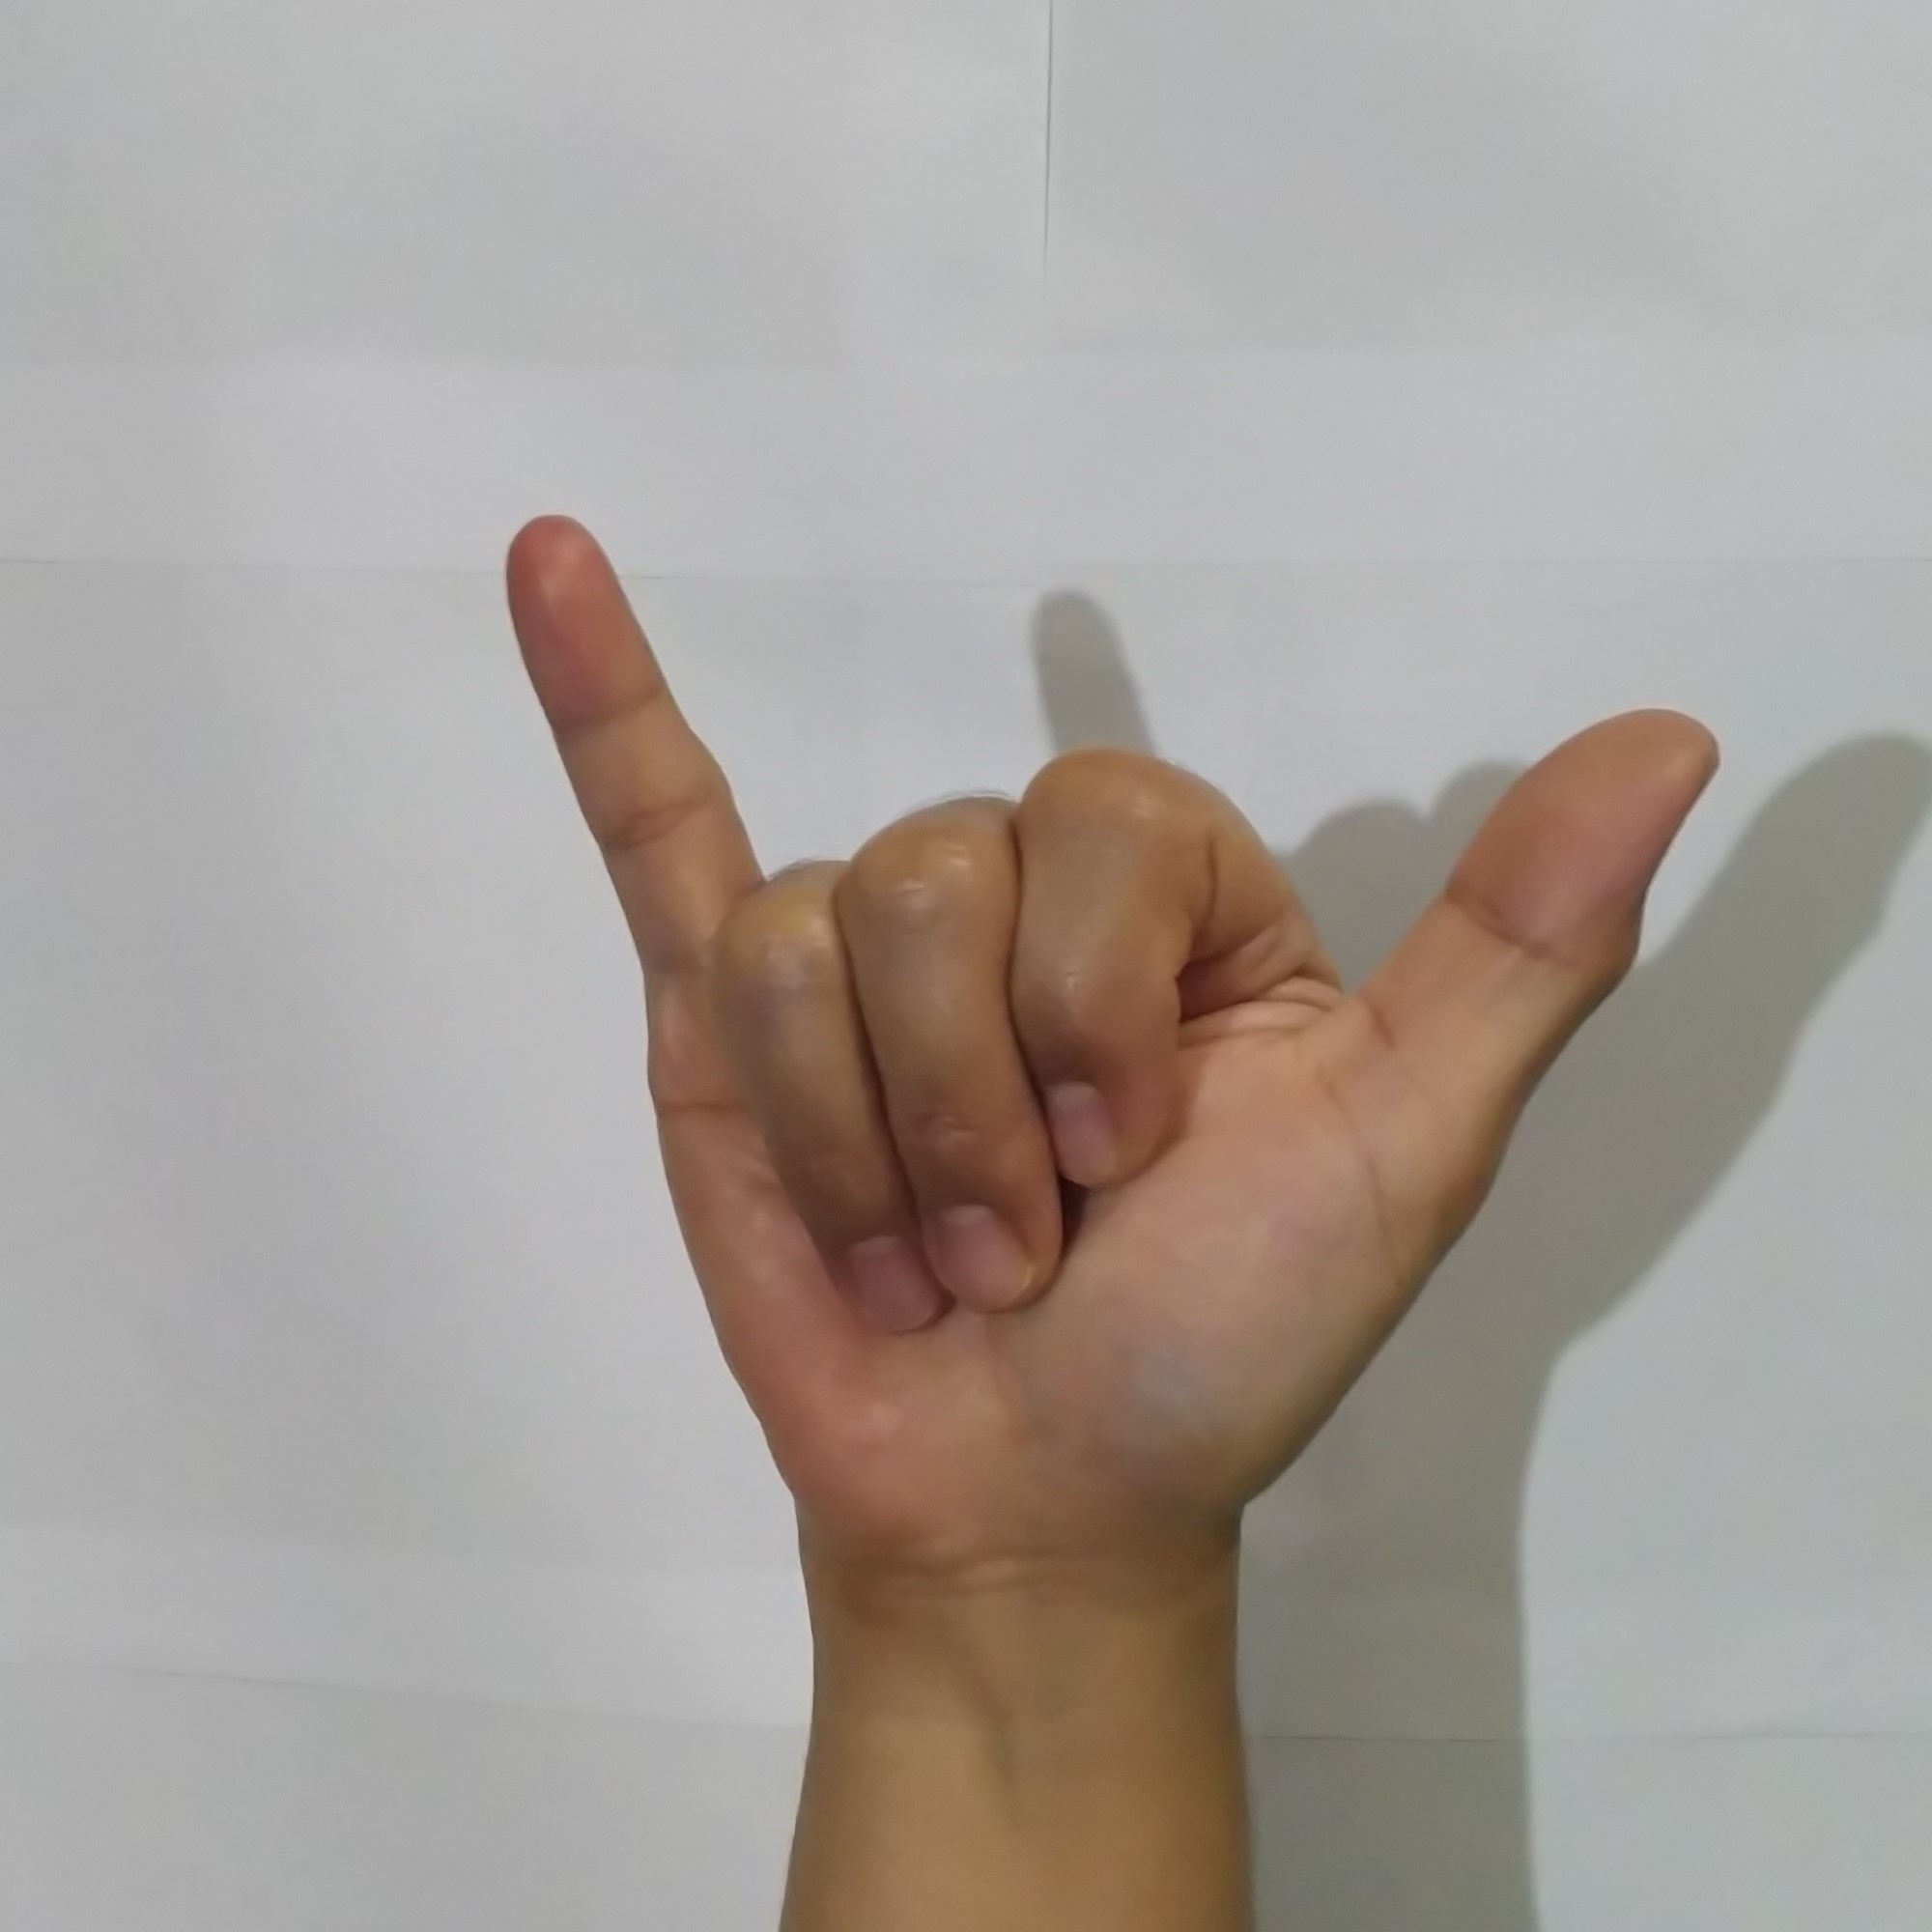Y: (485, 487, 1746, 1566)
